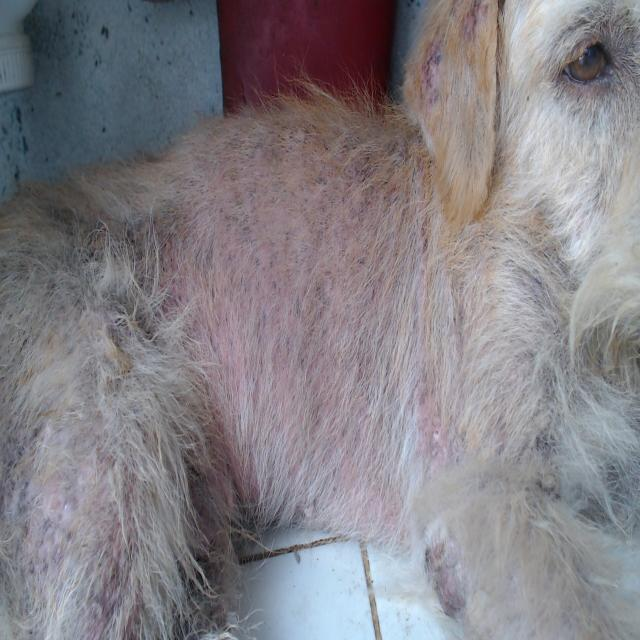demodicosis: (213, 148, 391, 426), (13, 482, 140, 623), (413, 37, 457, 117), (416, 545, 468, 607), (459, 2, 491, 52)
